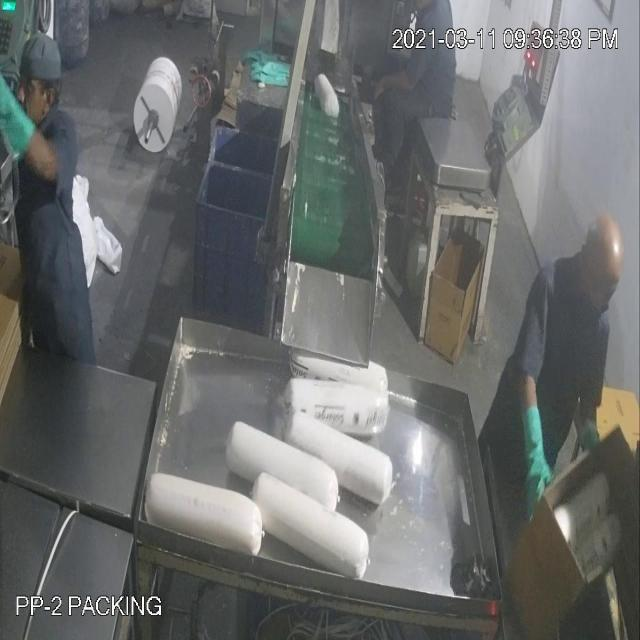Gloves: (51, 58, 540, 463)
